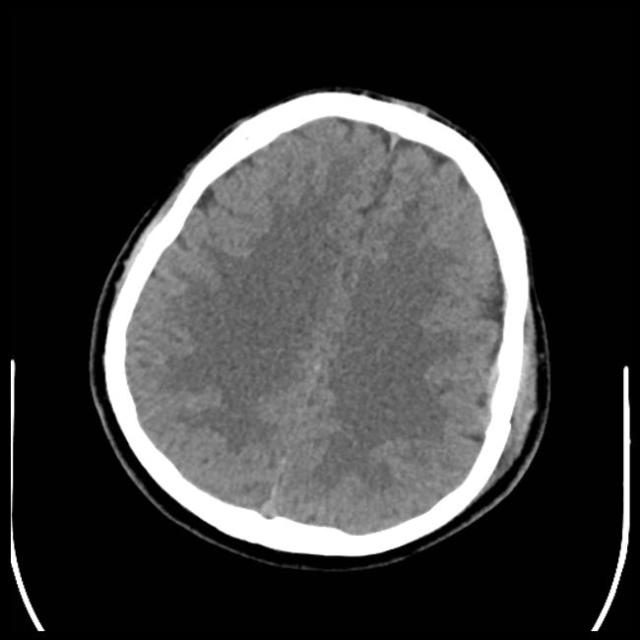lesion: (91, 88, 550, 563)
